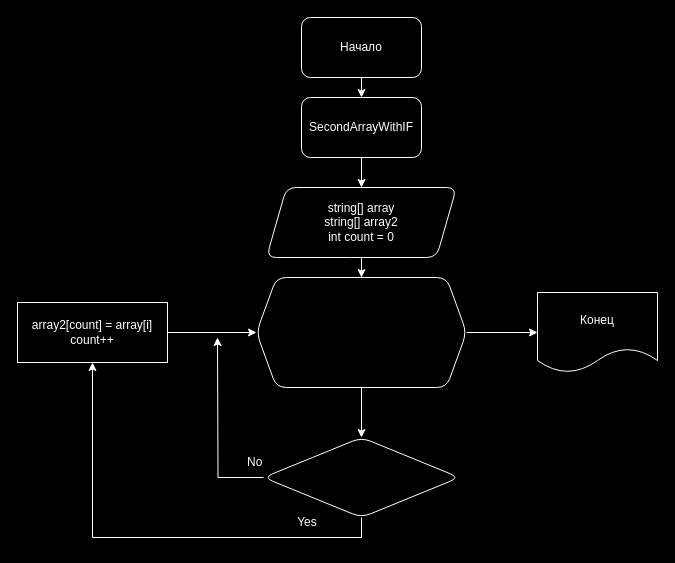
The diagram is 675 pixels wide and 563 high, and some of its shapes have lost their labels. Each missing label, with the centre of its shape:
for(int i = 0; i < array.Lenght; i ++): (x=361, y=332)
if if (array[i].Lenght >= 3): (x=361, y=477)
